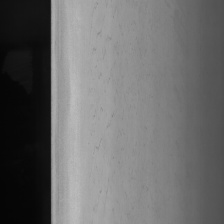silk_spot: (86, 3, 134, 156)
